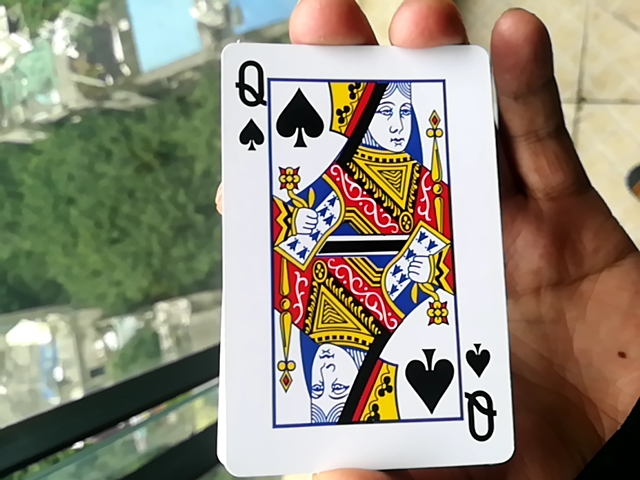ht q: (222, 30, 501, 471)
